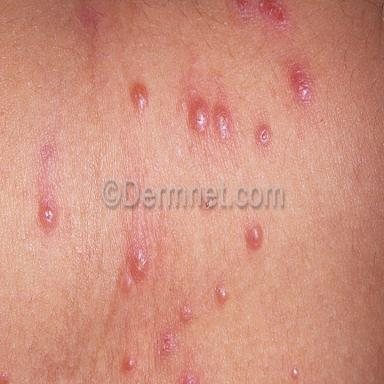Molluscum-Contagiosum: (128, 247, 149, 281), (189, 99, 209, 133), (213, 105, 231, 140), (131, 83, 149, 115), (39, 201, 57, 232), (245, 221, 263, 251), (256, 124, 271, 149), (215, 284, 228, 304), (179, 304, 192, 323), (124, 356, 137, 372)
